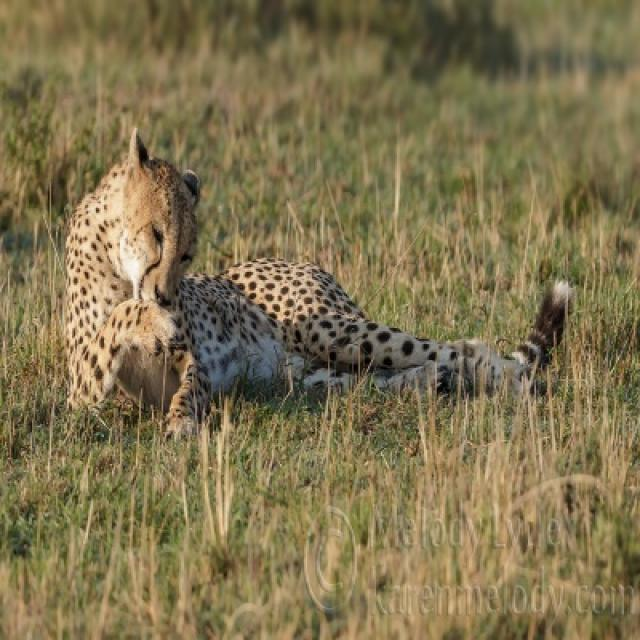Cheetah: (66, 127, 571, 438)
